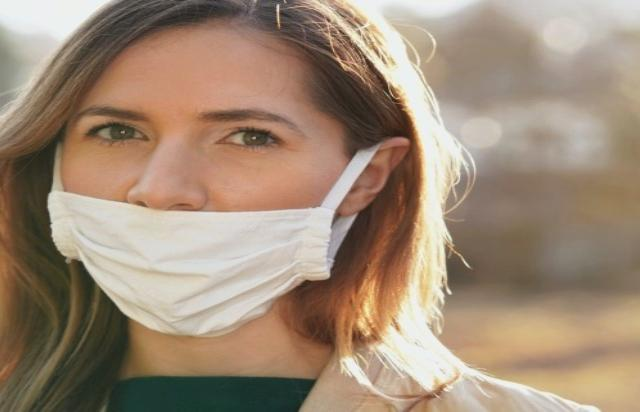mask_weared_incorrect: (45, 1, 445, 341)
